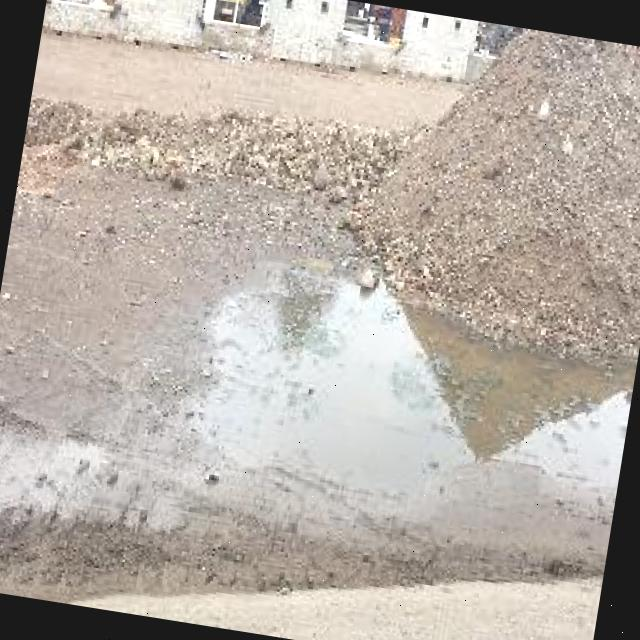waterlogging: (164, 292, 593, 520)
